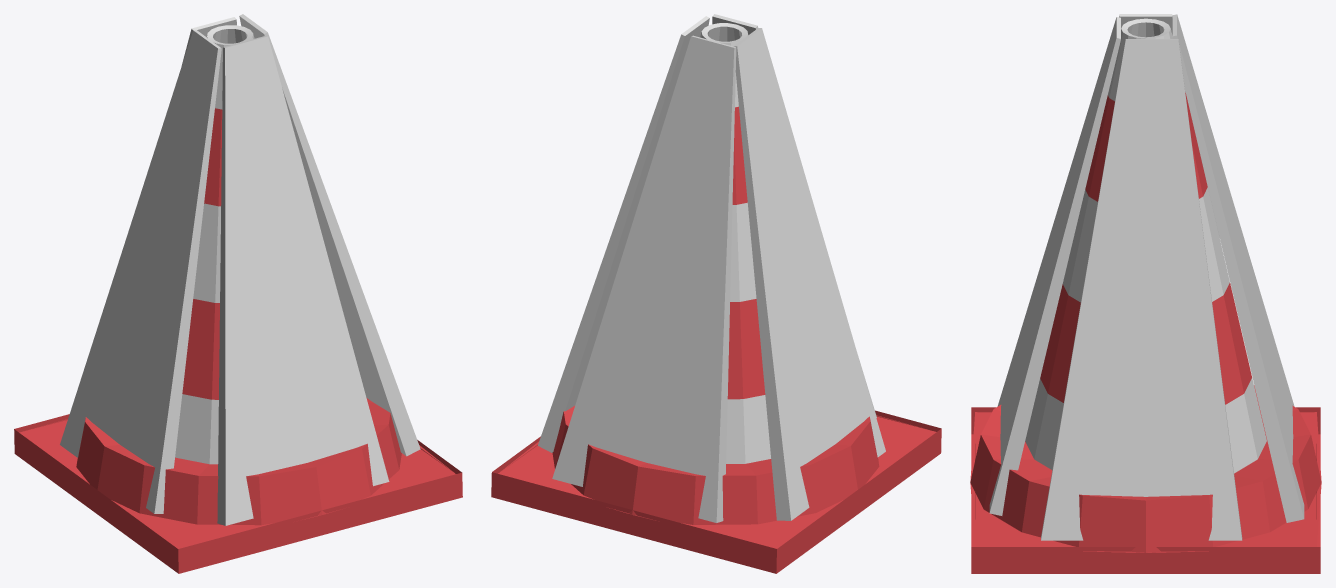
Rendered from Decors_plot2.fbx.
The picture shows the model from 3 angles, left to right: view 1: azimuth 30°, elevation 25°; view 2: azimuth 150°, elevation 25°; view 3: azimuth 270°, elevation 25°; orthographic projection. The views are drawn at different scales.
Visible parts, largest first — view 1: Cube, Cylinder, Cube.001, Cube.003; view 2: Cube.002, Cylinder, Cube.001, Cube.003; view 3: Cube.003, Cylinder, Cube.002, Cube.
Part boxes in pixels (x1,y1,x2,y2): Cube: [217, 36, 389, 525]; Cylinder: [14, 25, 462, 573]; Cube.001: [60, 30, 221, 513]; Cube.003: [239, 14, 420, 456]; Cube.002: [552, 35, 736, 522]; Cylinder: [491, 23, 941, 573]; Cube.001: [733, 28, 885, 520]; Cube.003: [538, 16, 709, 452]; Cube.003: [1041, 39, 1242, 540]; Cylinder: [970, 18, 1321, 573]; Cube.002: [1172, 14, 1304, 522]; Cube: [989, 17, 1120, 515].
Size of the model in its own units: 274 by 410 by 273.
